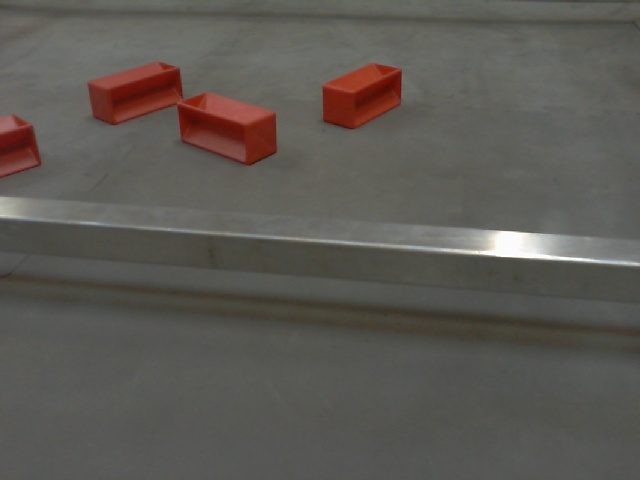RedSample: (177, 89, 283, 166), (85, 59, 192, 126), (319, 62, 405, 131), (1, 109, 50, 175)
